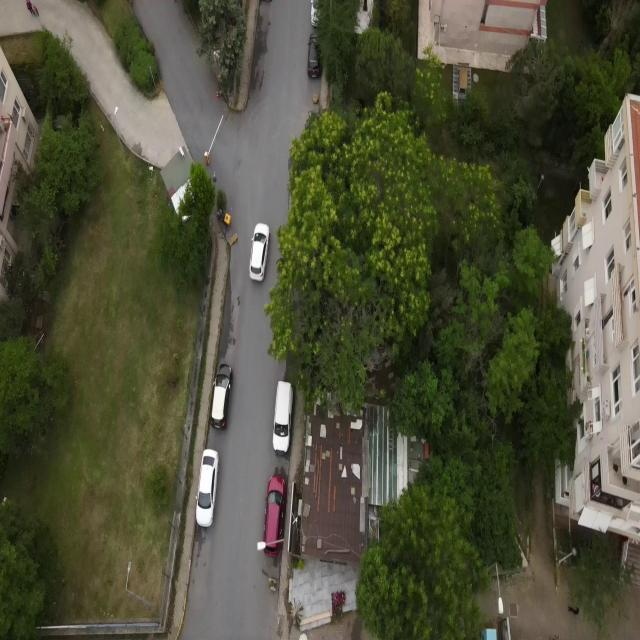p3rson: (26, 0, 36, 16), (33, 4, 39, 17)
